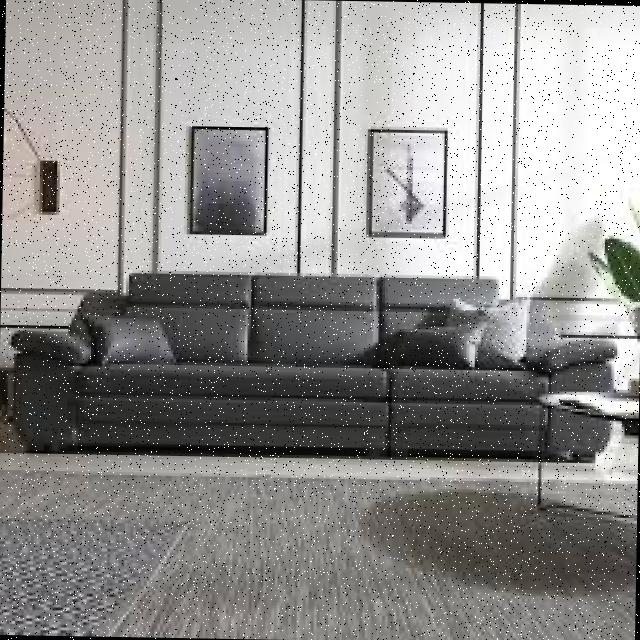Sofa: (2, 241, 640, 502)
